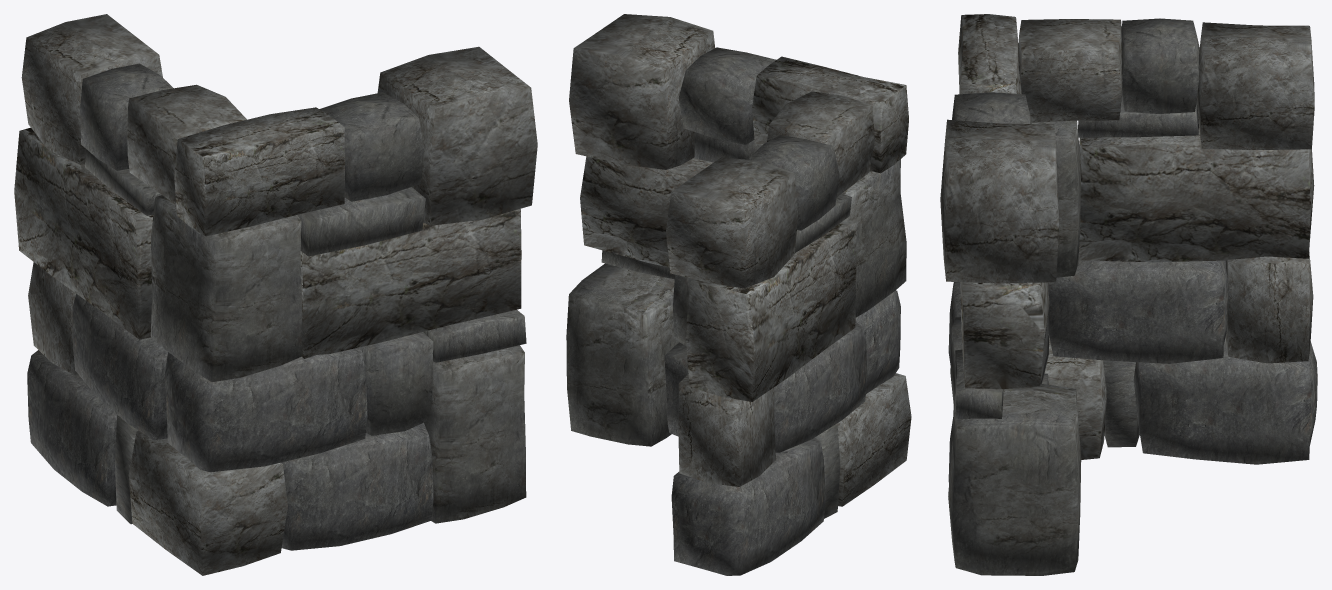
Rendered from stone wall corner.fbx.
3 renders of one model, left to right at view 1: azimuth 30°, elevation 25°; view 2: azimuth 150°, elevation 25°; view 3: azimuth 270°, elevation 25°, orthographic. The views are drawn at different scales.
Parts seen in each view (by area): view 1: stone wall corner; view 2: stone wall corner; view 3: stone wall corner.
Boxes of the visible parts, bbox=[...] form: stone wall corner: bbox=[14, 14, 537, 575]; stone wall corner: bbox=[566, 14, 911, 575]; stone wall corner: bbox=[940, 14, 1317, 575].
Bounding box in the file's own units: 210 × 257 × 211.
